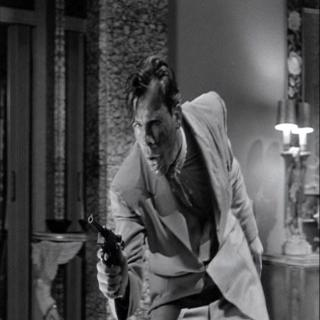gun: (86, 212, 126, 284)
